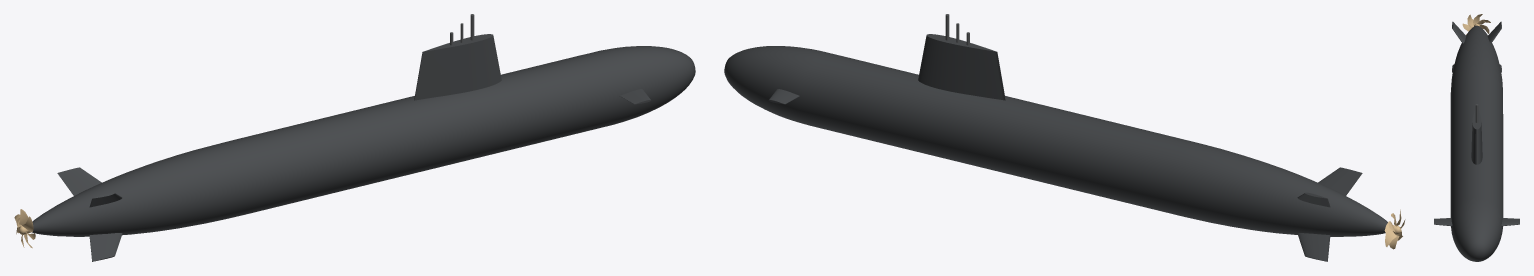
File: submarine.glb
3 views of the same model, side by side, from view 1: azimuth 30°, elevation 25°; view 2: azimuth 150°, elevation 25°; view 3: azimuth 270°, elevation 25° (orthographic). The views are drawn at different scales.
Size of the model in its own units: 65.27 by 12.9 by 10.3.
